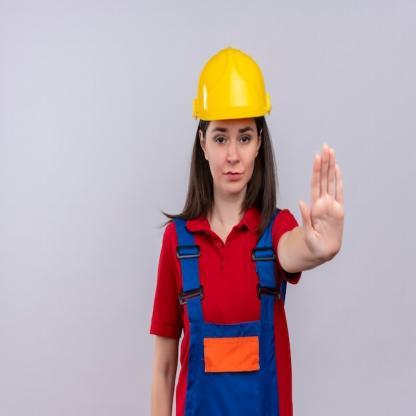stop: (296, 138, 352, 264)
